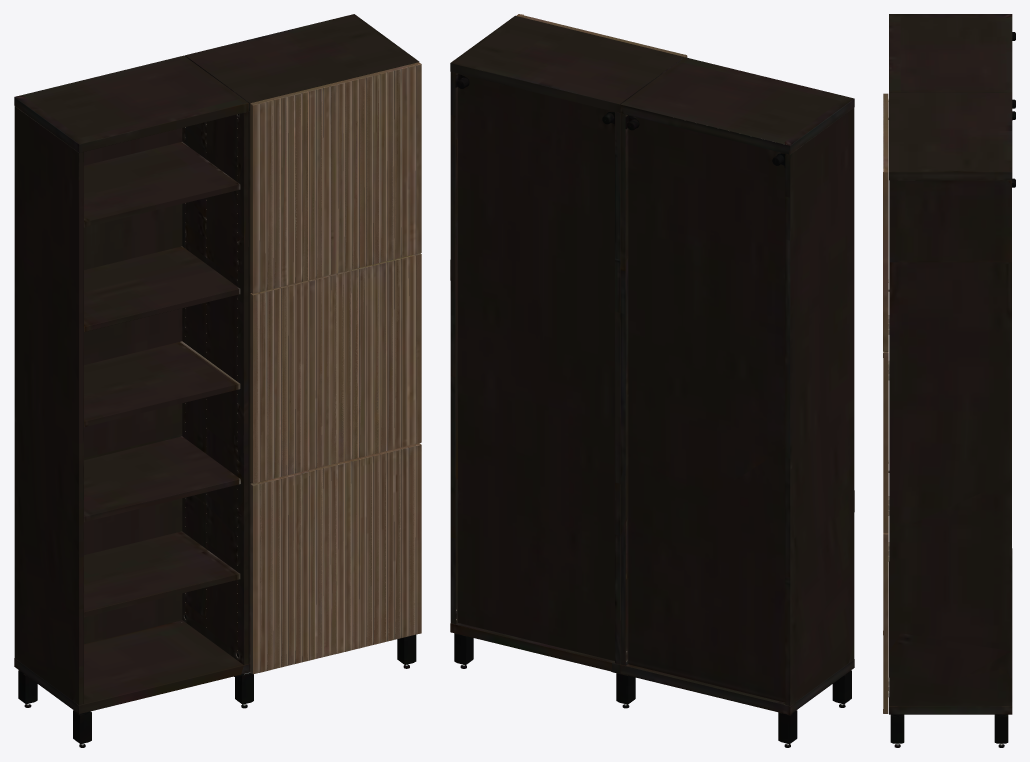
3 renders of one model, left to right at view 1: azimuth 30°, elevation 25°; view 2: azimuth 150°, elevation 25°; view 3: azimuth 270°, elevation 25°, orthographic. The views are drawn at different scales.
Visible parts, largest first — view 1: 60293566-STUBBARP001; view 2: 60293566-STUBBARP001; view 3: 60293566-STUBBARP001.
Part boxes in pixels (x1,y1,x2,y2): 60293566-STUBBARP001: (14,14,421,747); 60293566-STUBBARP001: (450,14,854,747); 60293566-STUBBARP001: (883,14,1015,747).
Bounding box in the file's own units: 1.2 × 2.05 × 0.4254.
Materials: 1 (1 with a texture image).
